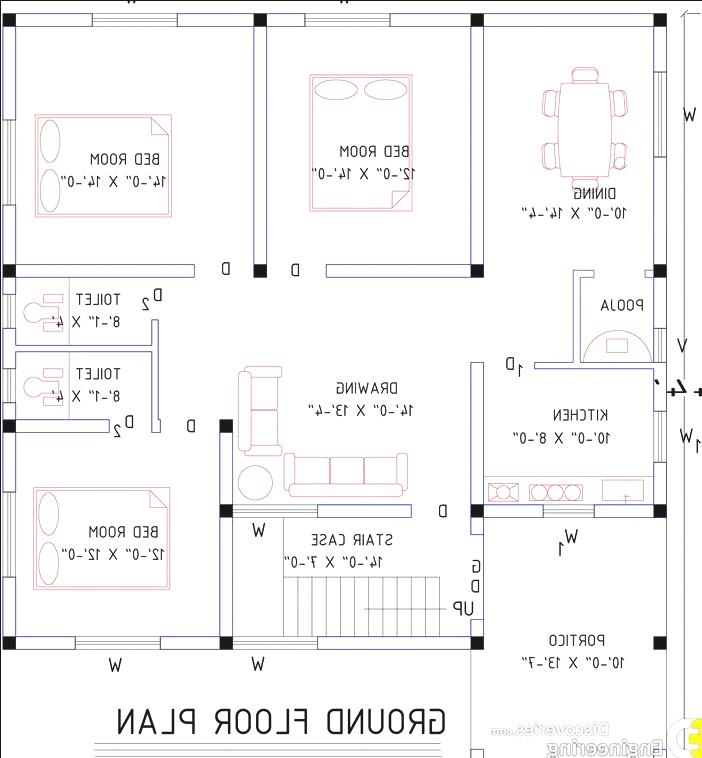Blueprint: (0, 5, 676, 655)
wall: (468, 23, 484, 266), (251, 23, 267, 264), (481, 10, 653, 28), (14, 262, 196, 278), (323, 261, 472, 279), (314, 634, 472, 650), (468, 359, 484, 505), (217, 514, 234, 636), (314, 501, 412, 519), (651, 154, 667, 264), (14, 416, 110, 434), (0, 24, 16, 120), (387, 10, 472, 28), (148, 317, 160, 433), (13, 342, 152, 352), (14, 10, 93, 27), (174, 11, 254, 27), (0, 429, 18, 492), (530, 360, 654, 369), (218, 430, 233, 504), (13, 633, 78, 650), (0, 201, 17, 264), (0, 574, 17, 636), (158, 633, 220, 650), (592, 502, 654, 519), (481, 502, 543, 518), (570, 274, 581, 364), (650, 275, 666, 329), (651, 360, 667, 411), (651, 24, 667, 74), (264, 10, 306, 28), (0, 325, 16, 369), (652, 460, 666, 505), (0, 399, 18, 420), (0, 274, 16, 296), (468, 515, 484, 535), (570, 268, 594, 278)
